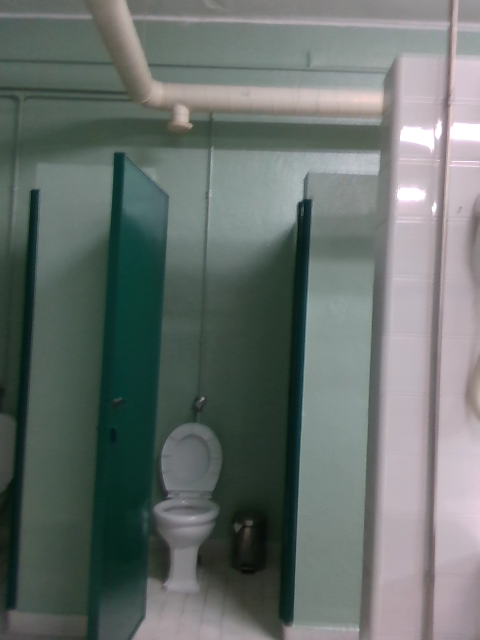open: (94, 156, 172, 633)
